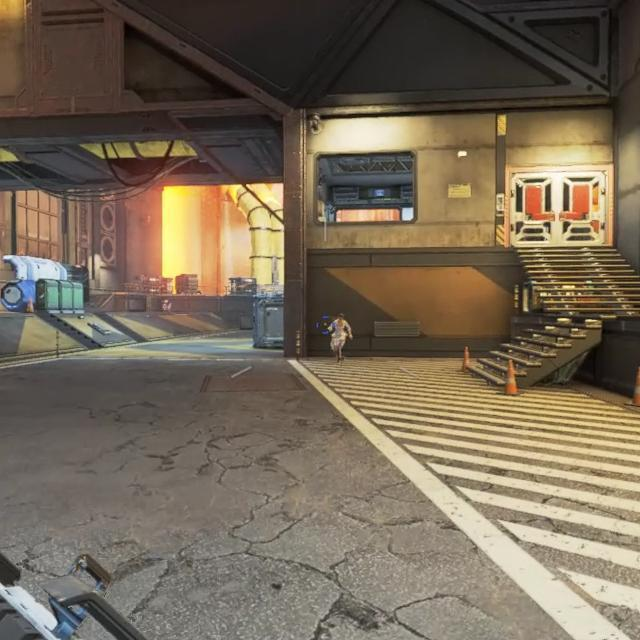avatar: (328, 312, 352, 363)
